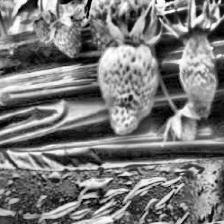Gray Mold: (160, 0, 222, 118)
